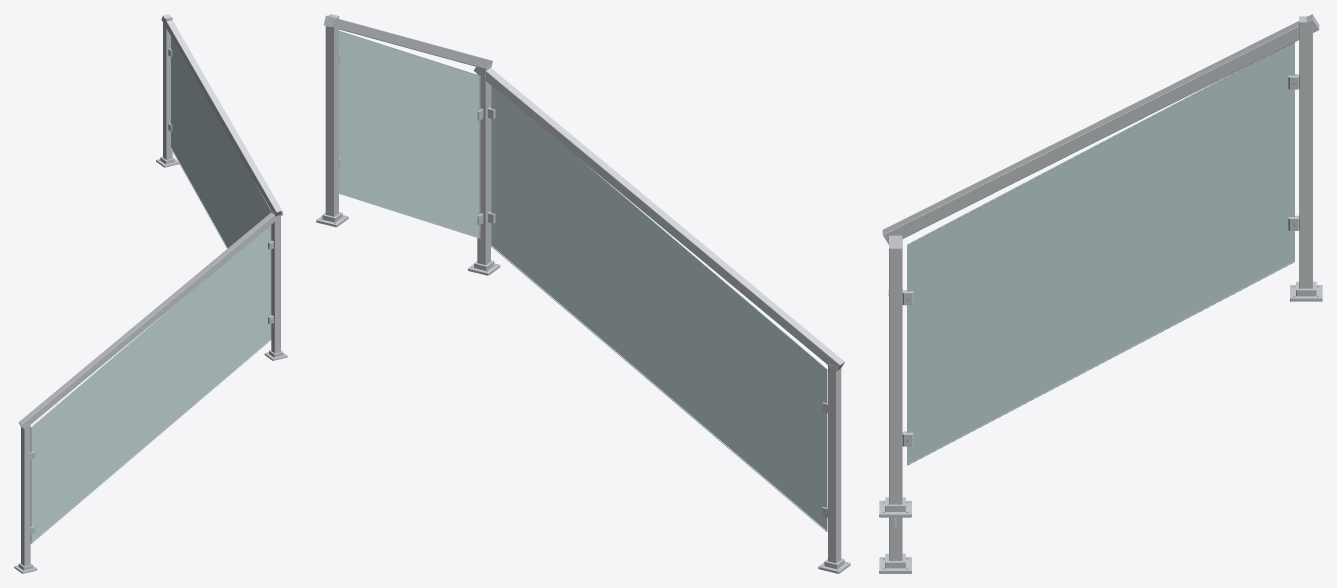
Rendered from silver-glass-stair-railing-with-cross-brace-02.glb.
3 renders of one model, left to right at view 1: azimuth 30°, elevation 25°; view 2: azimuth 150°, elevation 25°; view 3: azimuth 270°, elevation 25°, orthographic. The views are drawn at different scales.
Parts seen in each view (by area): view 1: Clear glass infill, Perpendicular stair return / Clear glass infill, Continuous rectangular handrail, Rectangular upright, Perpendicular stair return / Continuous rectangular handrail, Polished glass edges, Perpendicular stair return / Rectangular upright; view 2: Clear glass infill, Perpendicular stair return / Clear glass infill, Continuous rectangular handrail, Rectangular upright, Perpendicular stair return / Rectangular upright, Perpendicular stair return / Continuous rectangular handrail, Polished glass edges, Perpendicular stair return / Polished glass edges; view 3: Perpendicular stair return / Clear glass infill, Perpendicular stair return / Continuous rectangular handrail, Rectangular upright, Perpendicular stair return / Rectangular upright, Perpendicular stair return / Polished glass edges, Perpendicular stair return / Glass clamp body, Square mounting foot.
Part boxes in pixels (bbox=[...]): Clear glass infill: bbox=[31, 225, 270, 542]; Perpendicular stair return / Clear glass infill: bbox=[171, 37, 270, 247]; Continuous rectangular handrail: bbox=[18, 212, 283, 429]; Rectangular upright: bbox=[21, 211, 280, 566]; Perpendicular stair return / Continuous rectangular handrail: bbox=[161, 14, 282, 216]; Polished glass edges: bbox=[30, 225, 271, 543]; Perpendicular stair return / Rectangular upright: bbox=[163, 18, 172, 159]; Clear glass infill: bbox=[492, 86, 826, 529]; Perpendicular stair return / Clear glass infill: bbox=[339, 31, 479, 237]; Continuous rectangular handrail: bbox=[473, 67, 844, 371]; Rectangular upright: bbox=[477, 66, 841, 563]; Perpendicular stair return / Rectangular upright: bbox=[325, 18, 338, 216]; Perpendicular stair return / Continuous rectangular handrail: bbox=[323, 15, 492, 68]; Polished glass edges: bbox=[491, 85, 827, 531]; Perpendicular stair return / Polished glass edges: bbox=[339, 30, 480, 238]; Perpendicular stair return / Clear glass infill: bbox=[908, 43, 1293, 463]; Perpendicular stair return / Continuous rectangular handrail: bbox=[882, 14, 1319, 244]; Rectangular upright: bbox=[889, 240, 902, 560]; Perpendicular stair return / Rectangular upright: bbox=[1299, 23, 1312, 288]; Perpendicular stair return / Polished glass edges: bbox=[907, 42, 1294, 465]; Perpendicular stair return / Glass clamp body: bbox=[902, 74, 1299, 446]; Square mounting foot: bbox=[879, 500, 911, 573].
Size of the model in its own units: 2.12 by 3.15 by 1.62.
